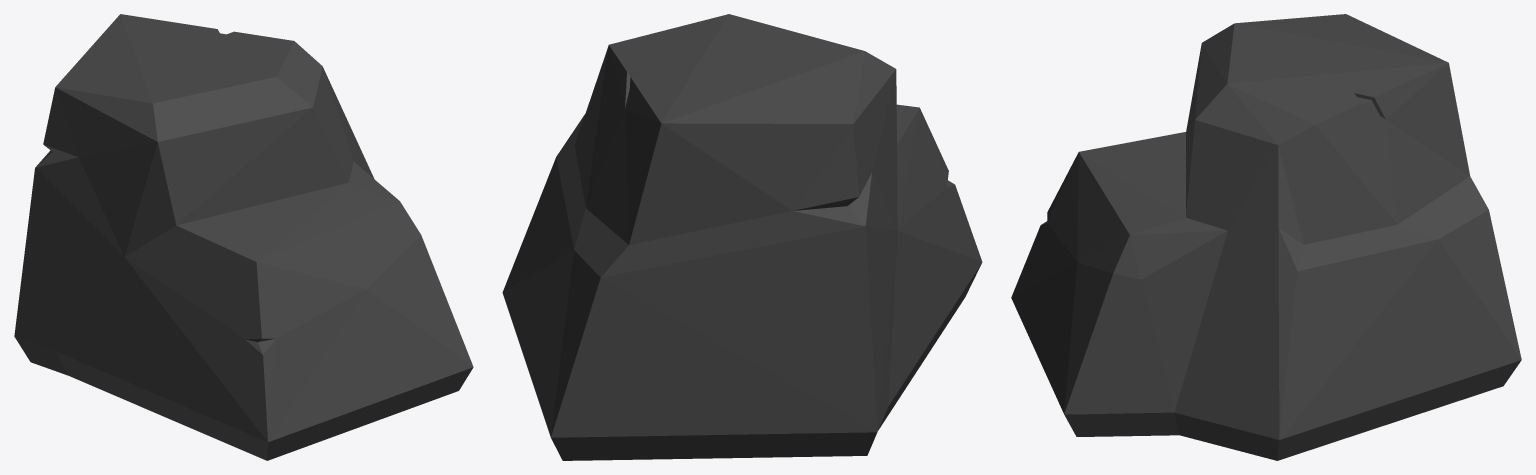
File: rock__rock9_natural_dark.glb
The picture shows the model from 3 angles, left to right: view 1: azimuth 30°, elevation 25°; view 2: azimuth 150°, elevation 25°; view 3: azimuth 270°, elevation 25°; orthographic projection. The views are drawn at different scales.
Visible parts, largest first — view 1: rock9.natural.dark; view 2: rock9.natural.dark; view 3: rock9.natural.dark.
Boxes of the visible parts, box(x1,y1,x2,y2) form: rock9.natural.dark: box(14, 14, 473, 460); rock9.natural.dark: box(502, 14, 982, 460); rock9.natural.dark: box(1011, 14, 1521, 460).
Bounding box in the file's own units: 2.32 × 1.76 × 2.73.
1 material, 1 textured.
